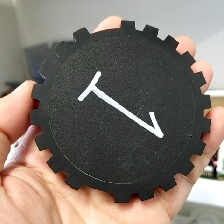gear: (27, 18, 213, 205)
missing: (65, 171, 131, 206), (74, 17, 138, 43)
